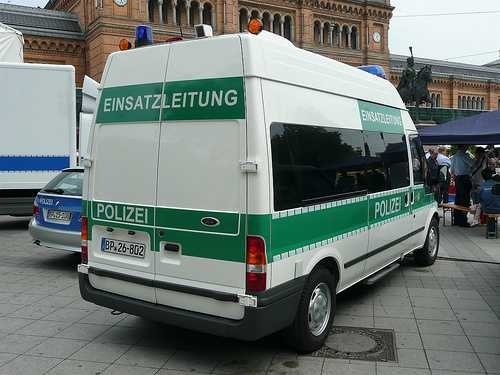Police Van: (75, 27, 446, 314)
